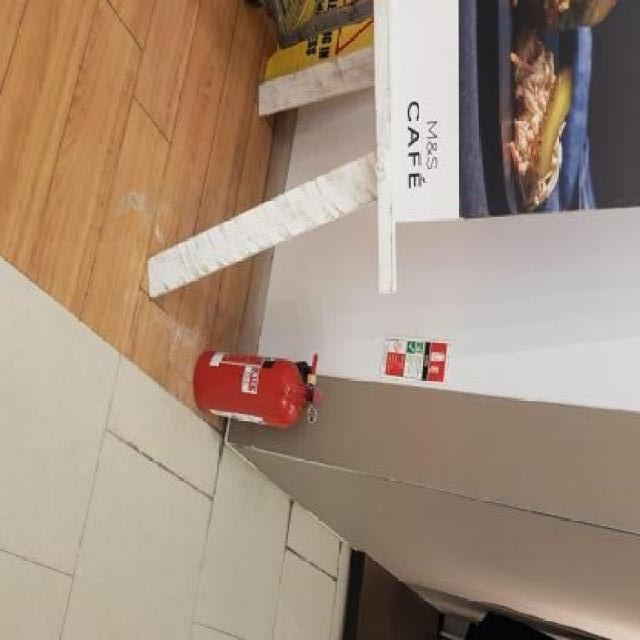fire extinguisher: (188, 348, 323, 430)
